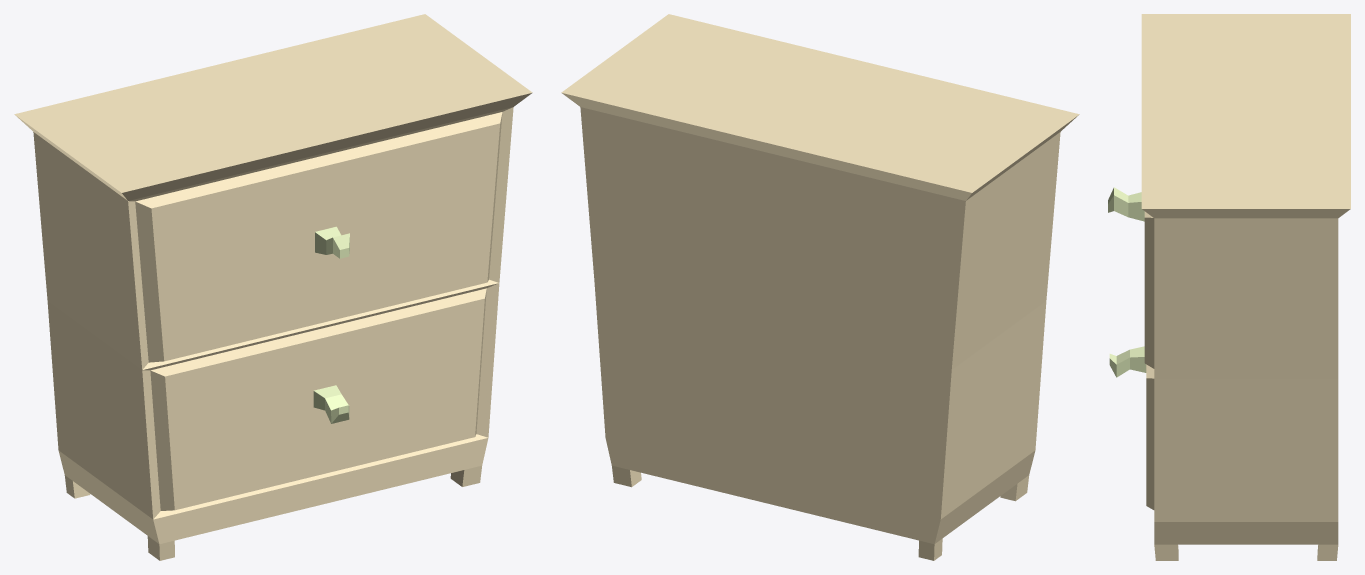
Rendered from closet_tall.fbx.
3 renders of one model, left to right at view 1: azimuth 30°, elevation 25°; view 2: azimuth 150°, elevation 25°; view 3: azimuth 270°, elevation 25°, orthographic. The views are drawn at different scales.
Parts seen in each view (by area): view 1: Cube; view 2: Cube; view 3: Cube.
Part boxes in pixels (x1=…): Cube: x1=14, y1=14, x2=532, y2=560; Cube: x1=561, y1=14, x2=1079, y2=560; Cube: x1=1108, y1=14, x2=1350, y2=560.
Size of the model in its own units: 142 by 127 by 74.97.
